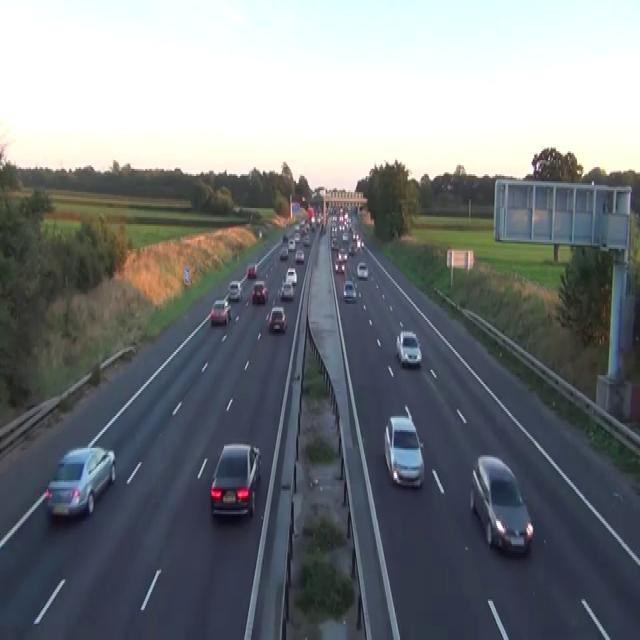Car: (469, 453, 533, 555), (45, 444, 116, 521), (210, 443, 261, 517), (383, 411, 424, 487), (396, 331, 422, 366), (210, 298, 231, 324), (267, 306, 286, 332), (251, 279, 268, 304), (343, 279, 356, 302), (228, 281, 242, 300), (280, 281, 294, 300), (356, 261, 368, 279), (285, 266, 297, 284), (223, 297, 231, 320), (247, 263, 257, 277), (294, 249, 304, 263), (279, 246, 288, 260), (338, 247, 347, 261), (334, 260, 344, 272), (331, 236, 339, 249), (287, 238, 295, 251), (232, 204, 242, 213), (348, 244, 355, 256), (310, 217, 316, 229), (303, 235, 310, 245), (342, 231, 348, 242), (294, 231, 300, 242), (321, 222, 326, 233), (282, 233, 288, 242), (360, 240, 364, 249), (258, 230, 262, 238)
